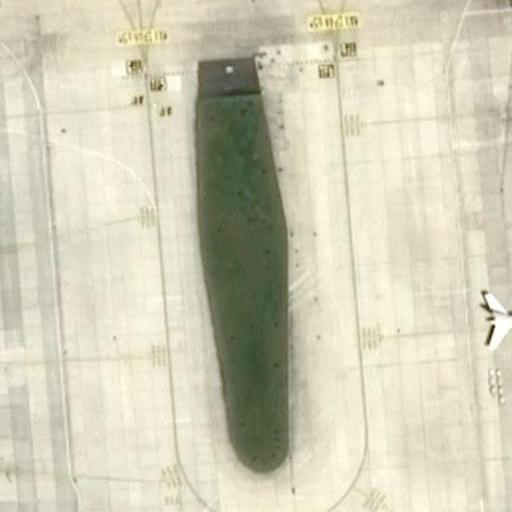Aircraft: (467, 231, 512, 384)
